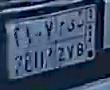2: (11, 26, 25, 78)
B: (77, 18, 84, 58)
V: (67, 18, 75, 63)
Z: (58, 18, 66, 65)
